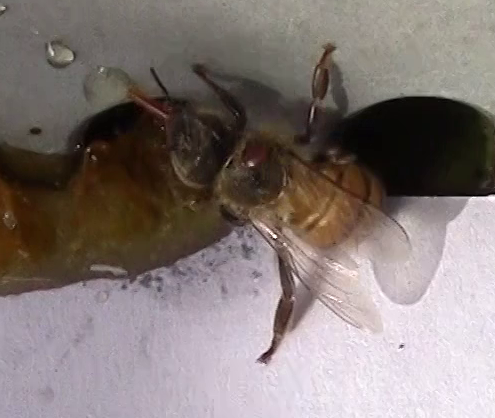Varroa destructor: (238, 138, 271, 170)
